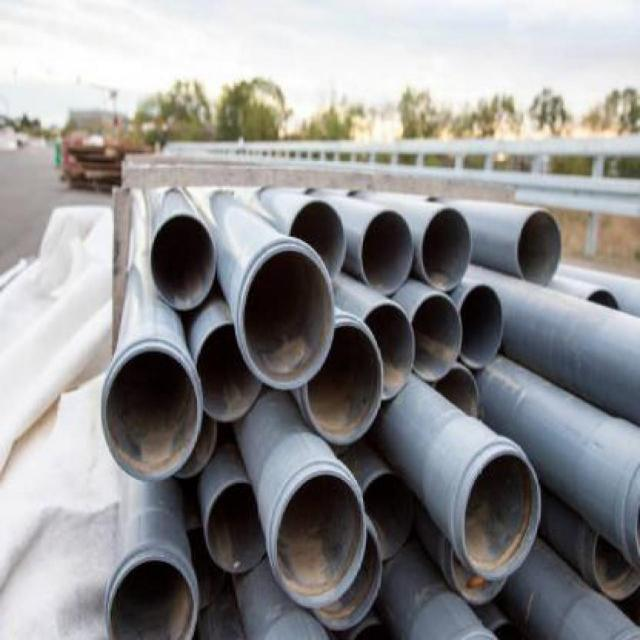pipe: (103, 345, 203, 482), (241, 246, 335, 390), (273, 469, 367, 609), (463, 449, 540, 580), (305, 321, 384, 446), (106, 556, 197, 639), (315, 521, 382, 632), (149, 212, 217, 311), (196, 322, 264, 421), (205, 480, 268, 573), (364, 302, 415, 401), (289, 199, 348, 280), (360, 209, 414, 296), (410, 293, 463, 381), (363, 470, 414, 558), (421, 207, 472, 292), (459, 282, 504, 369), (590, 527, 640, 603), (517, 209, 562, 286), (433, 366, 480, 419)
